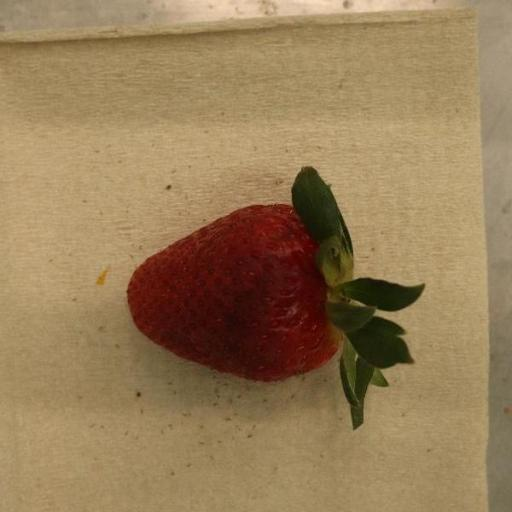Strawberry: (127, 166, 426, 429)
